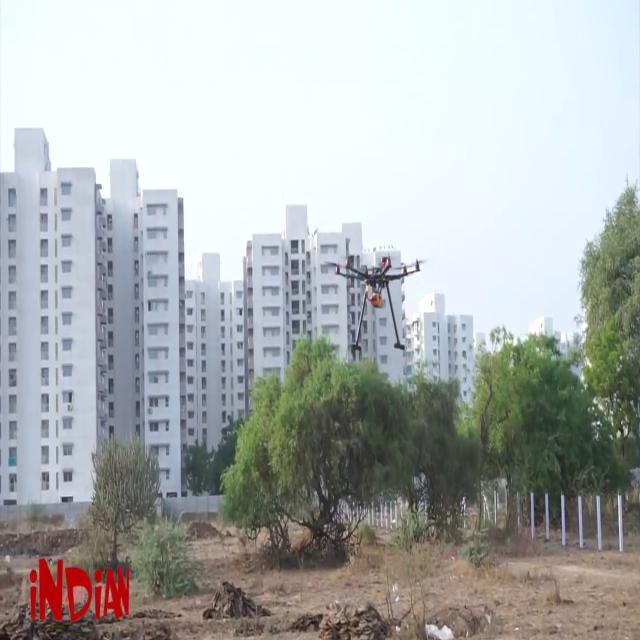drone: (333, 234, 422, 366)
